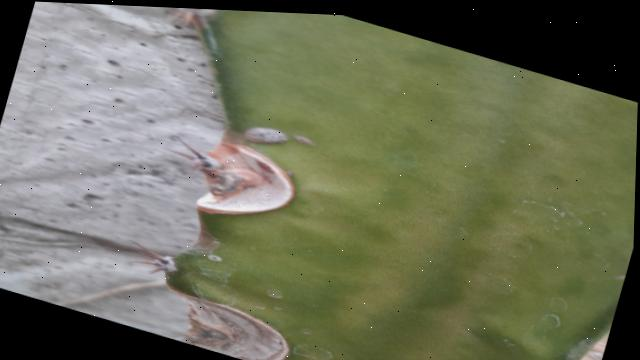stemcanker: (242, 117, 293, 149), (286, 129, 321, 151), (202, 248, 227, 266)
